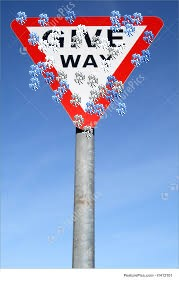giveway: (11, 14, 162, 128), (18, 17, 94, 134), (30, 49, 140, 111), (70, 17, 131, 125), (14, 19, 151, 51)
